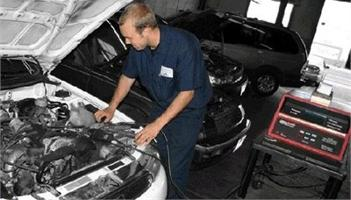person: (94, 2, 213, 198)
